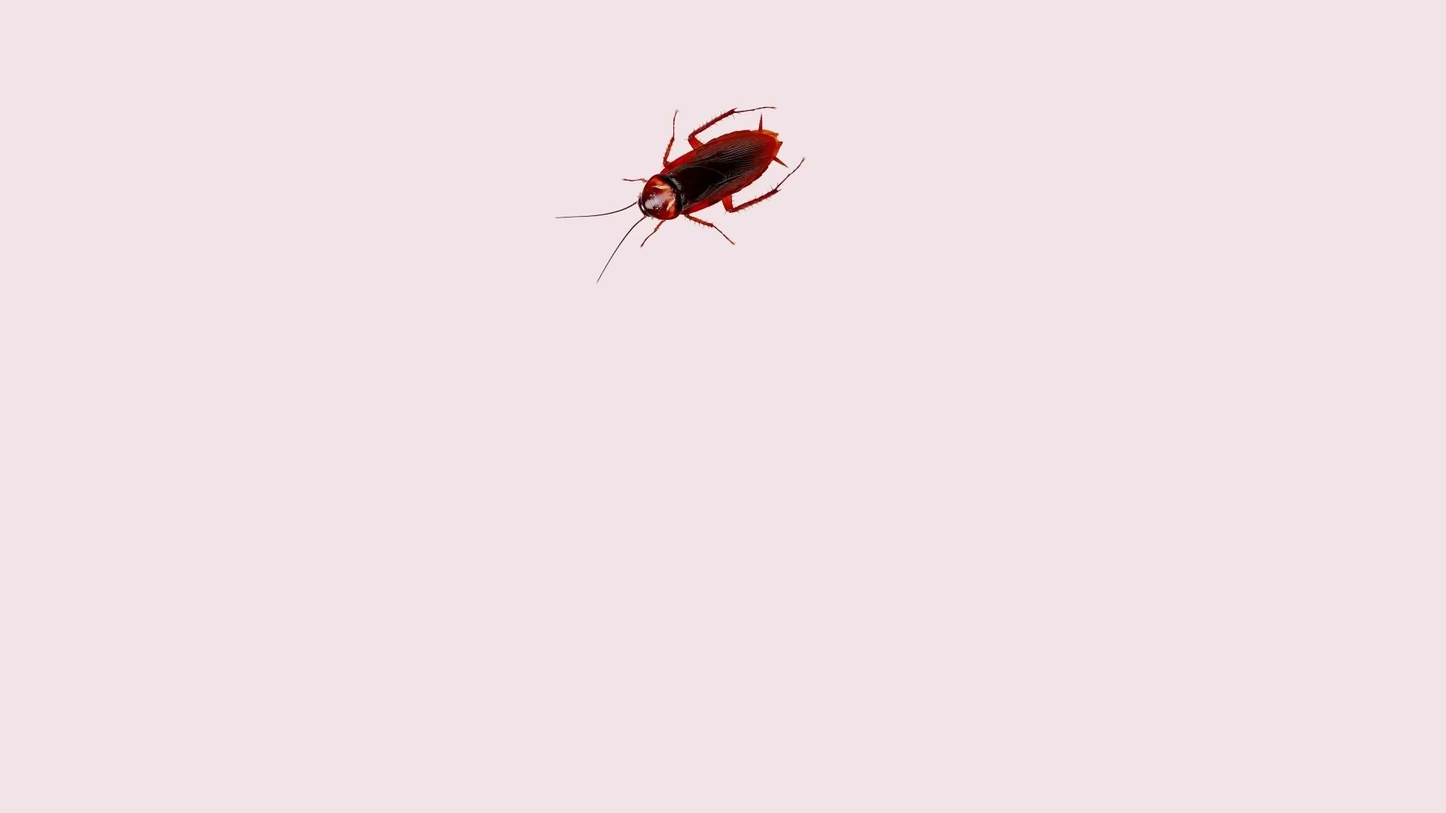cockroach: (561, 86, 797, 280)
